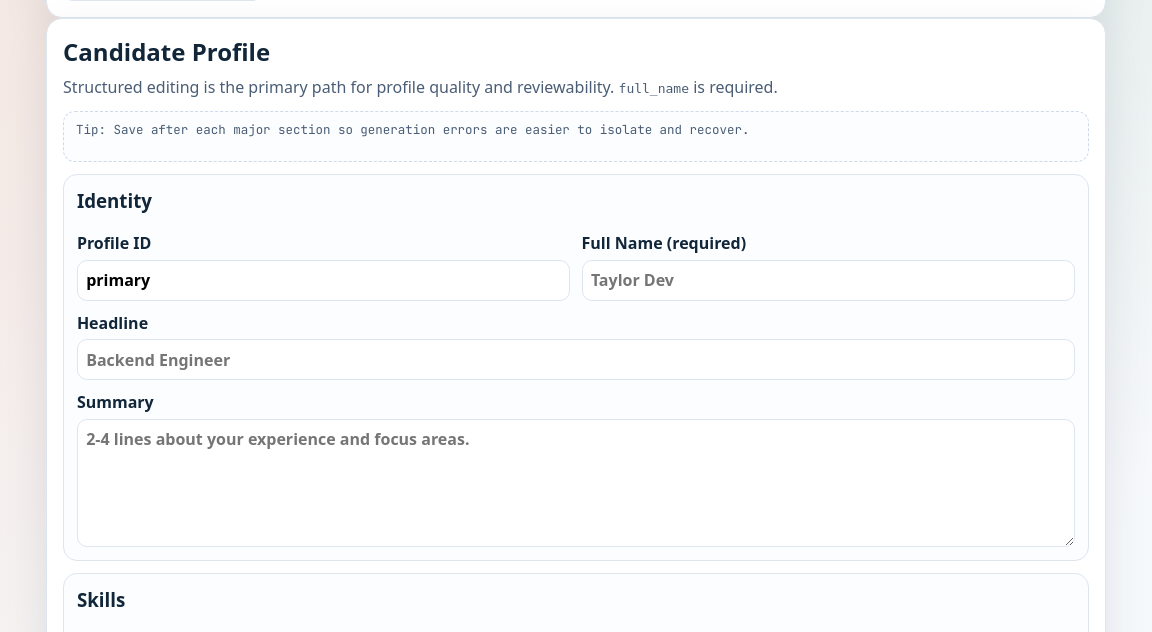
Test case: ProfilePage › shows save error when profile write fails
(page scrolled)
In the field labelled "Full Name (required)": (828, 280) [582, 260, 1075, 301], type "Casey Dev"
(page scrolled)
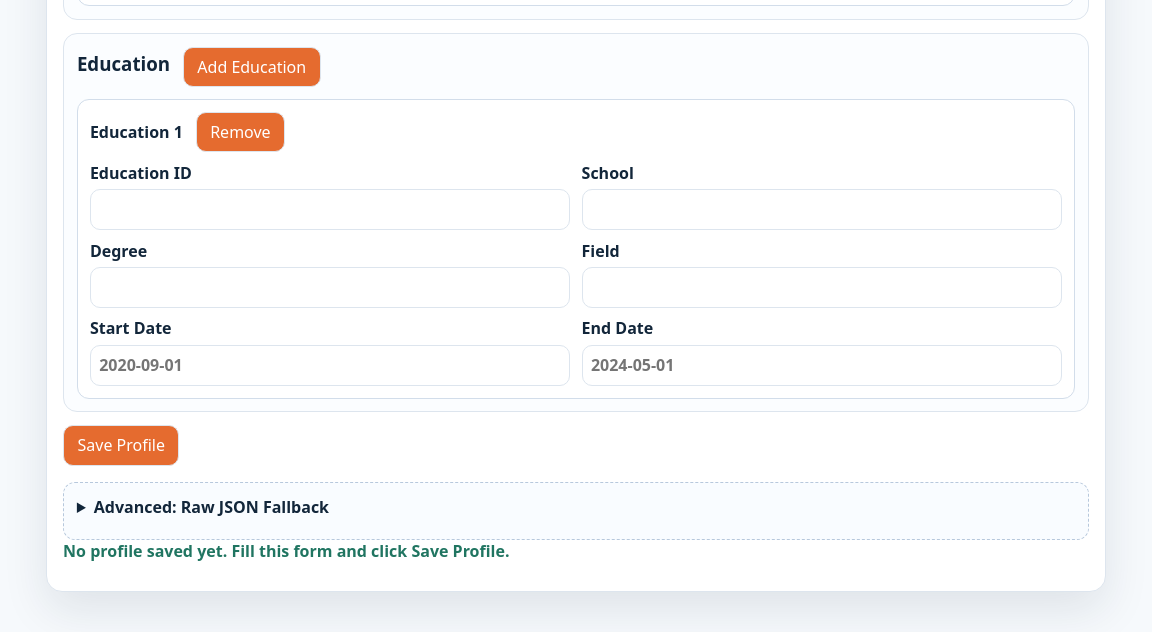
Click the button "Save Profile": (121, 446) [63, 425, 180, 466]
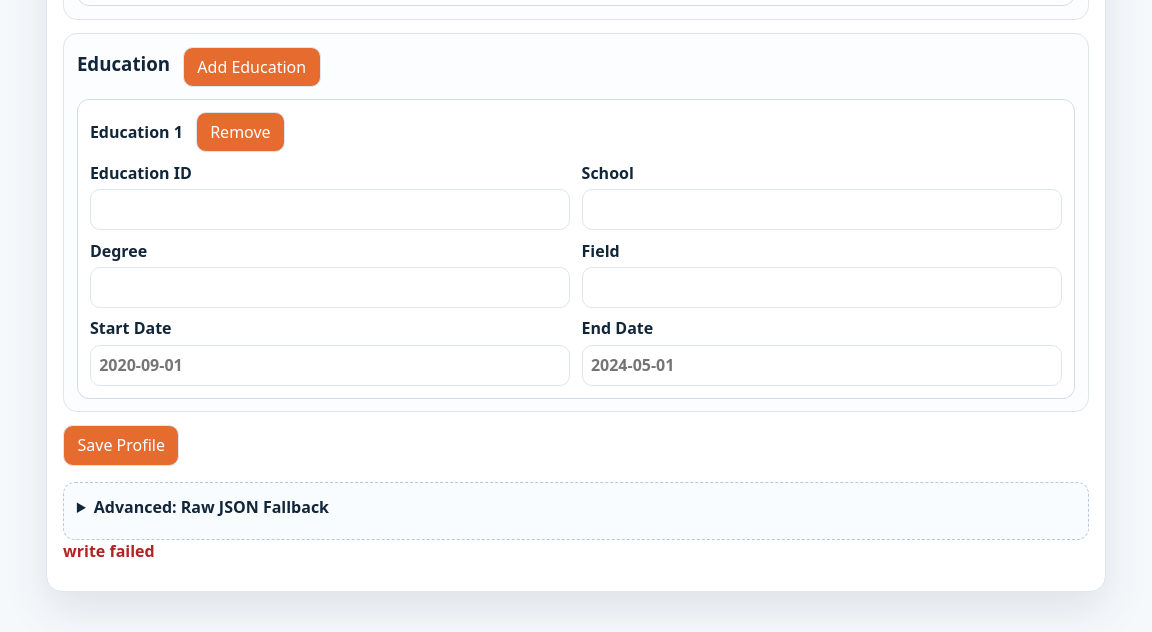
Now the text "write failed" is shown, box [63, 540, 155, 562]
